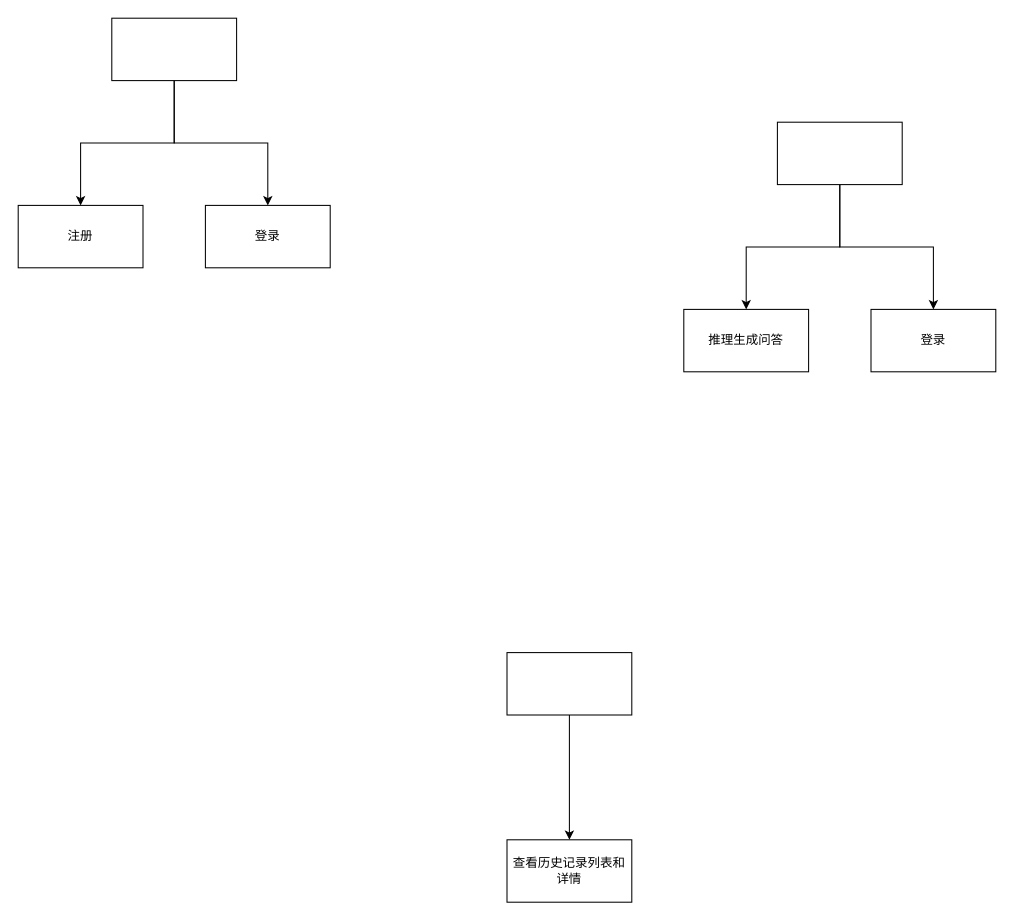
Image size: 1014x920. Some labels were removed from this diagram. Here are the shapes that lost their labels. From the top down, the box of each, then its label:
(111, 17, 237, 81): 用户管理模块
(776, 121, 902, 185): 智能问答模块
(506, 652, 632, 715): 历史记录模块
